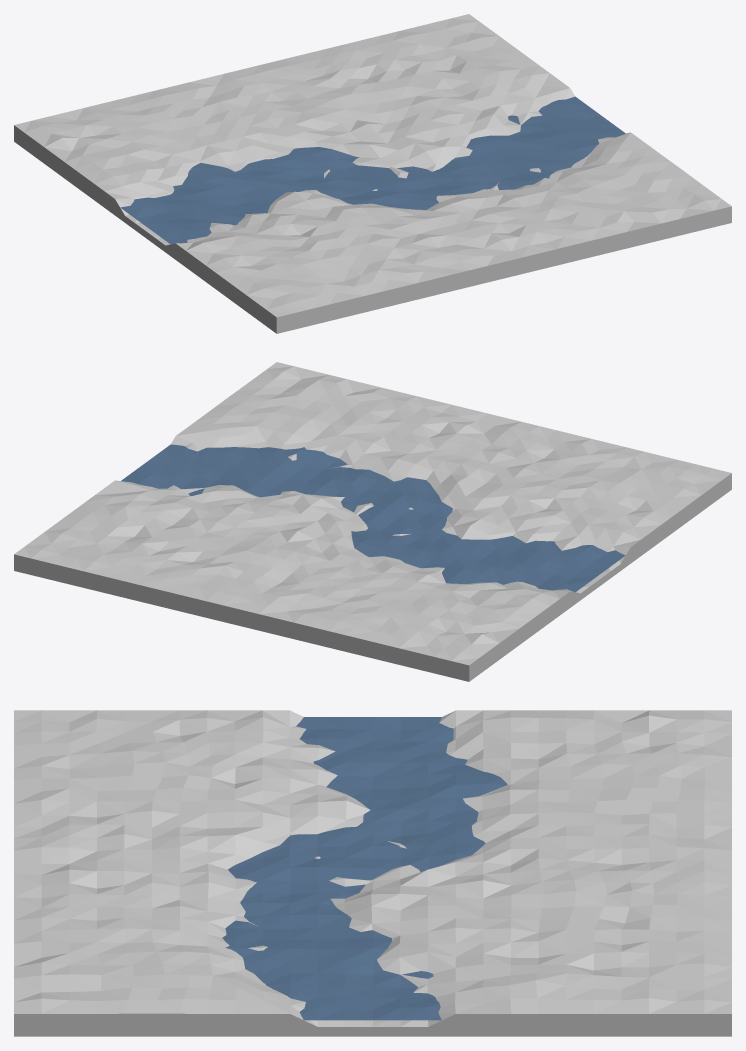
File: WaterStraightTile.fbx
3 views of the same model, one above another, from view 1: azimuth 30°, elevation 25°; view 2: azimuth 150°, elevation 25°; view 3: azimuth 270°, elevation 25° (orthographic). The views are drawn at different scales.
Parts seen in each view (by area): view 1: WaterStraightTile.001; view 2: WaterStraightTile.001; view 3: WaterStraightTile.001.
Boxes of the visible parts, <box> form: WaterStraightTile.001: <box>14,14,731,333</box>; WaterStraightTile.001: <box>14,362,731,681</box>; WaterStraightTile.001: <box>14,710,731,1036</box>.
Size of the model in its own units: 1000 by 45.47 by 1000.
